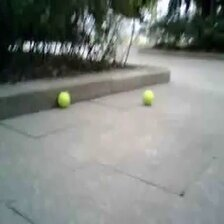tennis: (59, 91, 70, 108), (141, 90, 154, 103)
